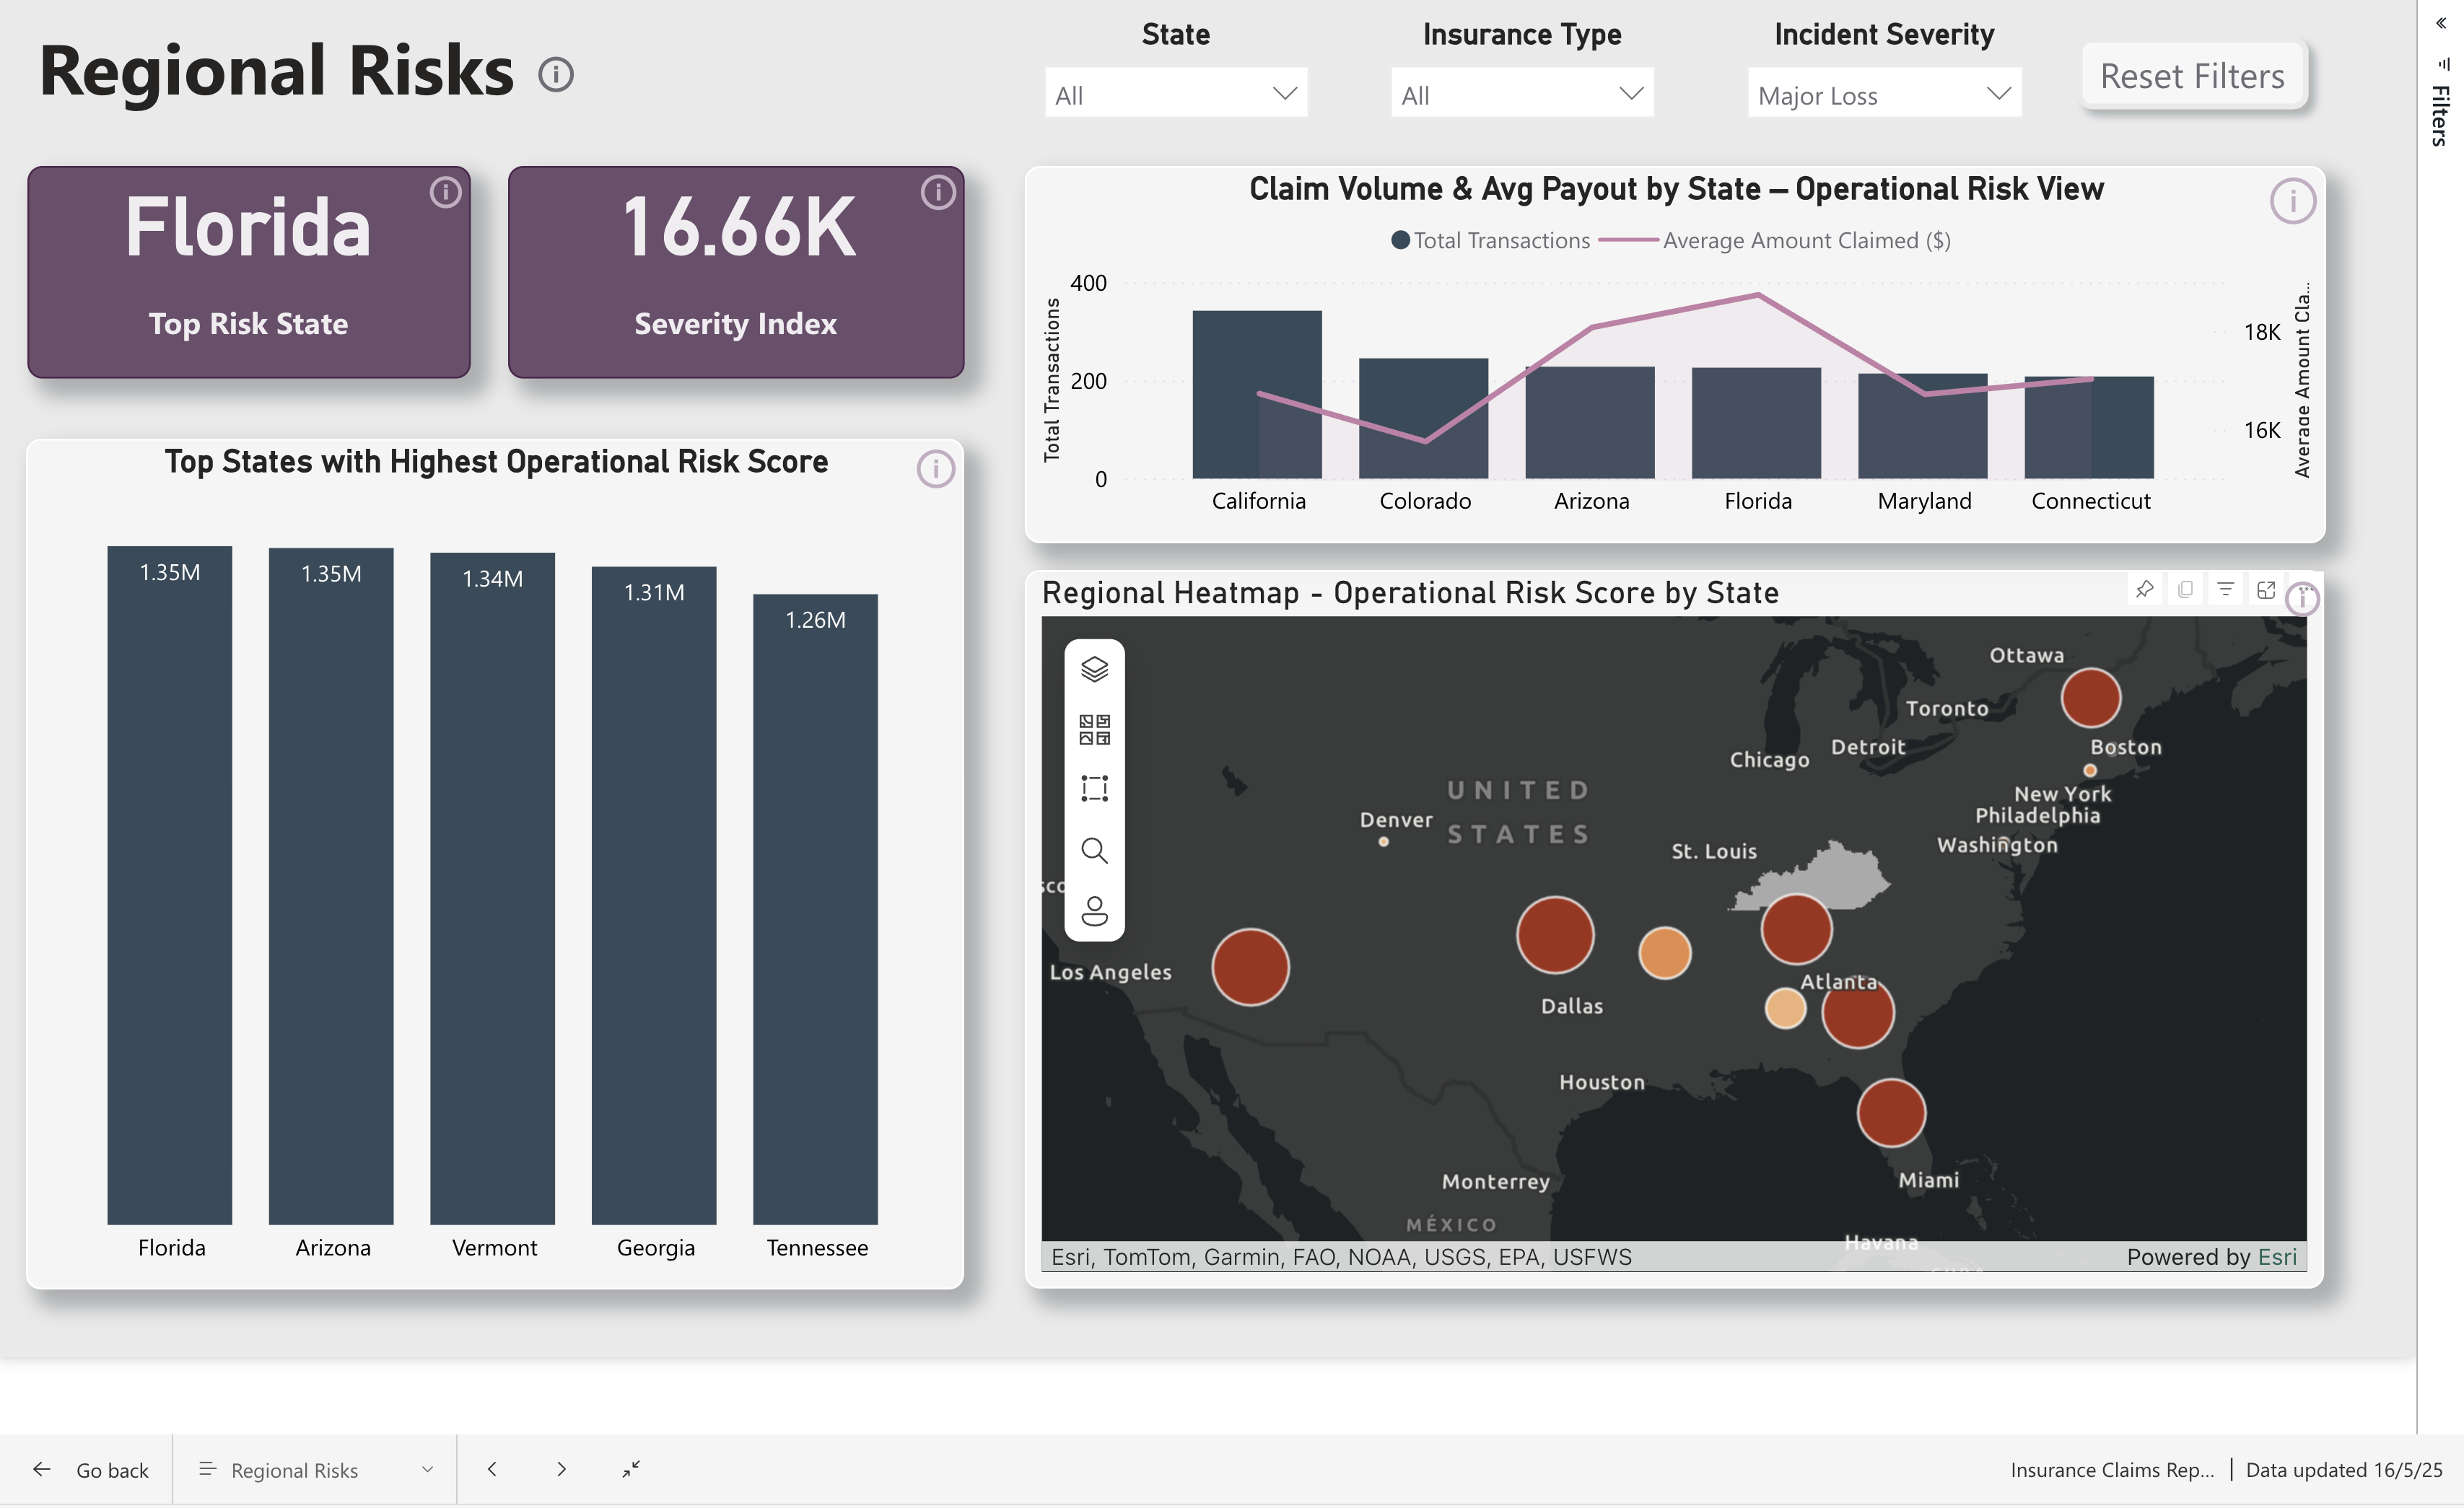

This screenshot's page, from the dashboard's own definition file:
{"tool":"powerbi","page":{"name":"Regional Risks","canvas":[1280,720],"ordinal":2},"visuals":[{"type":"lineClusteredColumnComboChart","title":"Claim Volume & Avg Payout by State – Operational Risk View","fields":{"Category":["US_State_Lookup.STATE_NAME"],"Y":["CountNonNull(INSURANCE_DATA.TRANSACTION_ID)"],"Y2":["Avg(INSURANCE_DATA.CLAIM_AMOUNT)"]},"box":[544.4,89.9,688,199.4],"z":0},{"type":"slicer","title":"Incident Severity","fields":{"Values":["INSURANCE_DATA.INCIDENT_SEVERITY"]},"box":[915.8,12.9,166.3,66.8],"z":1000},{"type":"textbox","box":[0,7.2,296.5,69.2],"z":2000},{"type":"slicer","title":"Insurance Type","fields":{"Values":["INSURANCE_DATA.INSURANCE_TYPE"]},"box":[727.2,12.9,160.4,66.8],"z":3000},{"type":"esriVisual","title":"Regional Heatmap - Operational Risk Score by State","fields":{"Location":["US_State_Lookup.STATE_NAME"],"Color":["ALL_MEASURES.OPERATIONAL_RISK_SCORE"],"Size":["ALL_MEASURES.INJURY_RATE(%)"]},"box":[544.4,303.9,687.2,380.1],"z":4000},{"type":"clusteredColumnChart","title":"Top States with Highest Operational Risk Score","fields":{"Category":["US_State_Lookup.STATE_NAME"],"Y":["ALL_MEASURES.OPERATIONAL_RISK_SCORE"]},"box":[16.1,234.1,496.1,449.9],"z":5000},{"type":"cardVisual","title":"Top Risk State","fields":{"Data":["ALL_MEASURES.TOP_RISK_STATE"]},"box":[16.5,89.9,234.5,112.6],"z":6000},{"type":"cardVisual","title":"Severity Index","fields":{"Data":["ALL_MEASURES.SEVERITY_INDEX"]},"box":[270.7,89.9,241.7,112.6],"z":7000},{"type":"slicer","title":"State","fields":{"Values":["US_State_Lookup.STATE_NAME"]},"box":[544.6,12.9,160.4,66.8],"z":8000},{"type":"actionButton","box":[1091.5,12.9,140.5,56.2],"z":9000},{"type":"actionButton","box":[282,26.9,27.9,30],"z":10000},{"type":"actionButton","box":[225.2,89.9,25.8,27.9],"z":11000},{"type":"actionButton","box":[484.5,89.9,28.9,27.9],"z":12000},{"type":"actionButton","box":[482.4,234.5,30,32],"z":13000},{"type":"actionButton","box":[1197.3,89.9,35.1,37.2],"z":14000},{"type":"actionButton","box":[1205.6,303.7,27.9,31],"z":15000}]}

Visuals, with their boxes on the page's 1280x720 design canvas (x1, y1, x2, y2). These are canvas units, not pixel positions in the 2464x1508 screenshot, which may show the page scaled, cropped or inside an application window:
"Claim Volume & Avg Payout by State – Operational Risk View" lineClusteredColumnComboChart: [544, 90, 1232, 289]
"Incident Severity" slicer: [916, 13, 1082, 80]
textbox: [0, 7, 296, 76]
"Insurance Type" slicer: [727, 13, 888, 80]
"Regional Heatmap - Operational Risk Score by State" esriVisual: [544, 304, 1232, 684]
"Top States with Highest Operational Risk Score" clusteredColumnChart: [16, 234, 512, 684]
"Top Risk State" cardVisual: [16, 90, 251, 202]
"Severity Index" cardVisual: [271, 90, 512, 202]
"State" slicer: [545, 13, 705, 80]
actionButton: [1092, 13, 1232, 69]
actionButton: [282, 27, 310, 57]
actionButton: [225, 90, 251, 118]
actionButton: [484, 90, 513, 118]
actionButton: [482, 234, 512, 266]
actionButton: [1197, 90, 1232, 127]
actionButton: [1206, 304, 1234, 335]
